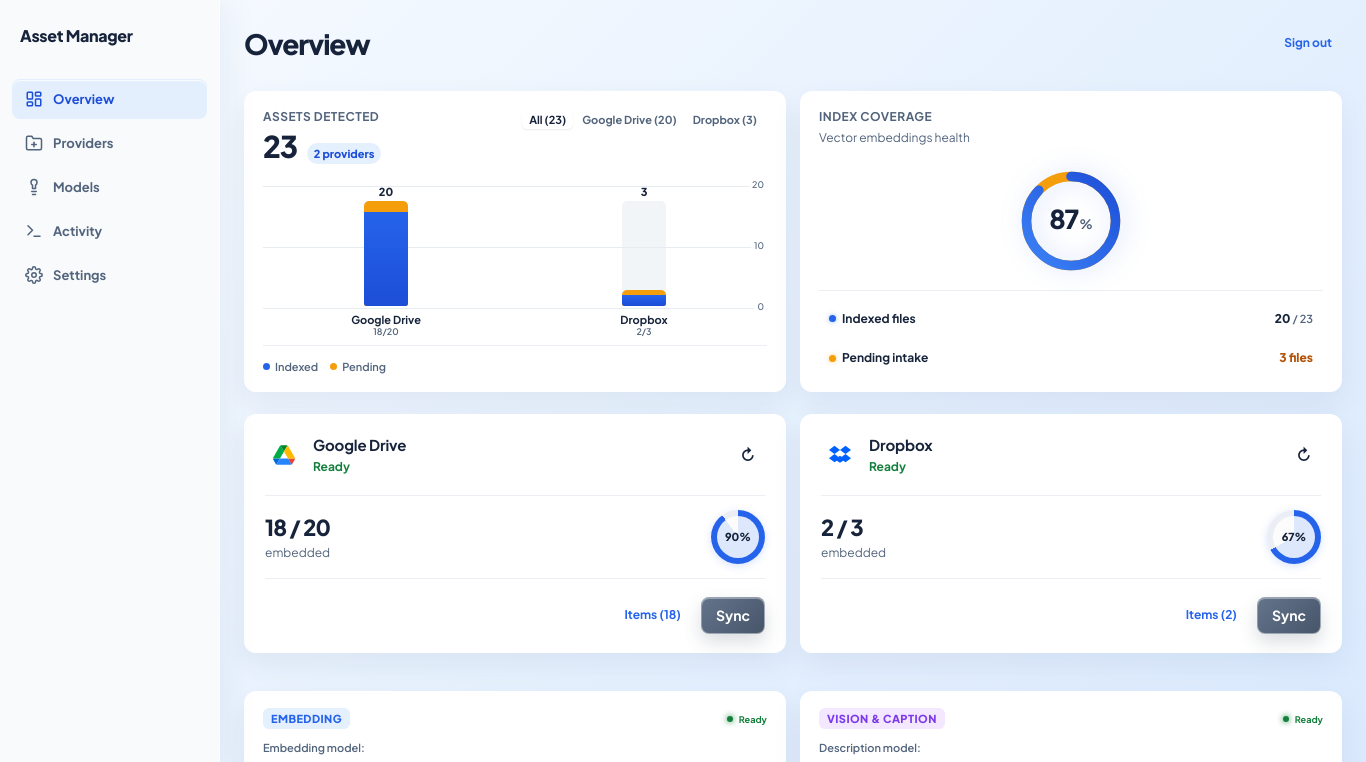
Test: shows session sync activity only on the providers tab
What coordinates should you click on to do the following:
click the button "Providers"
I would click on:
 (110, 143)
Its box is [12,123,207,163].
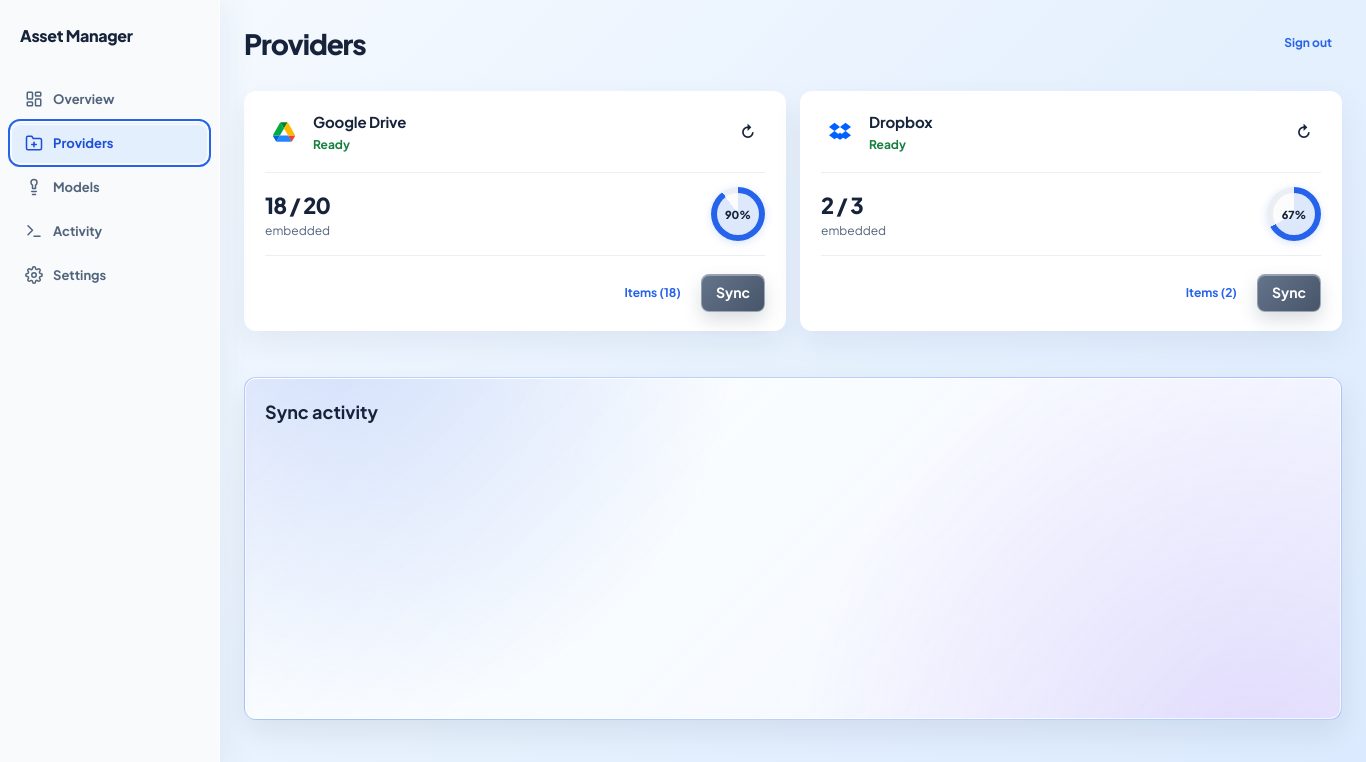
What coordinates should you click on to do the following:
click the button with aria-label "Sync Google Drive"
I would click on:
 (733, 293)
Its box is [701,274,765,312].
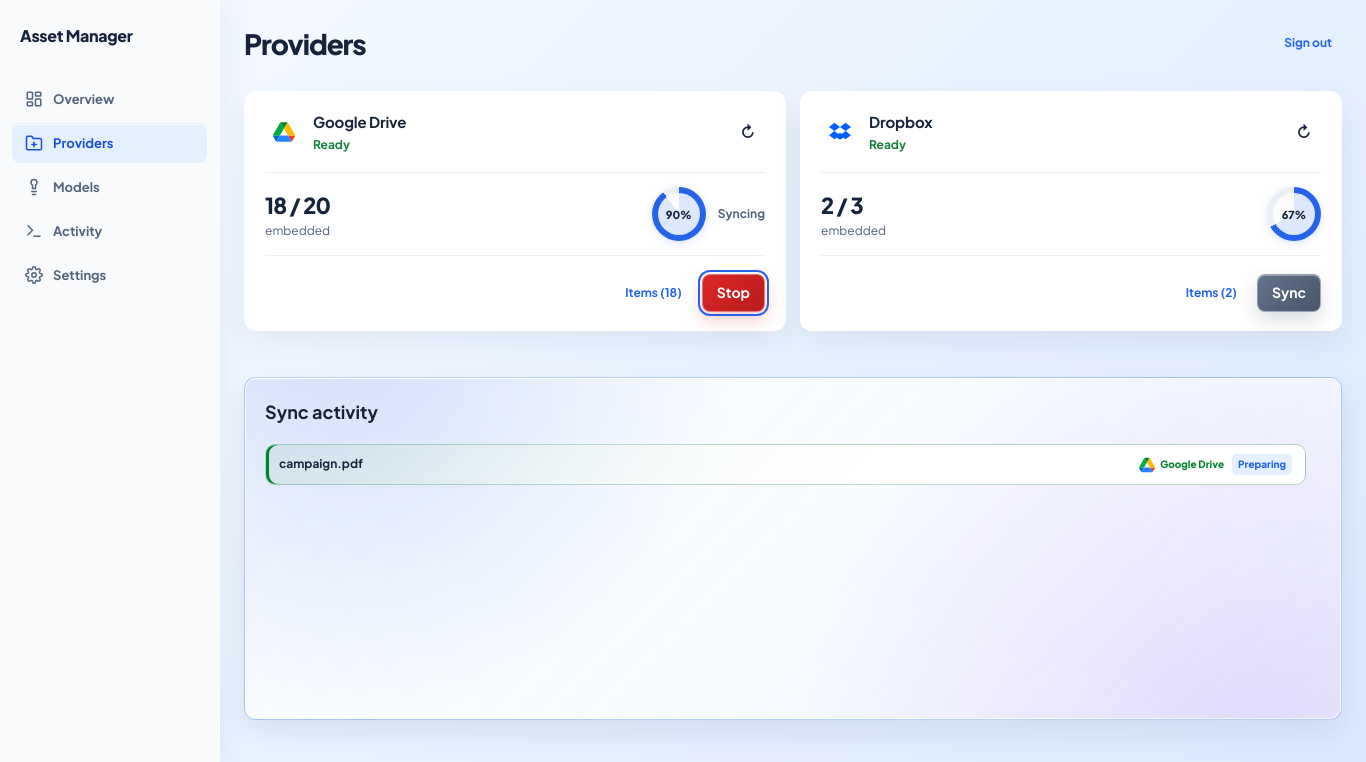
expect the element "Sync activity" shows "campaign.pdf": met, box [279,456,363,471]
expect the element named "Google Drive campaign.pdf" shows "Google Drive": met, box [1160,458,1224,470]
What coordinates should you click on to do the following:
click the button with aria-label "Stop syncing Google Drive"
I would click on:
 (733, 293)
Its box is [702,274,765,312].
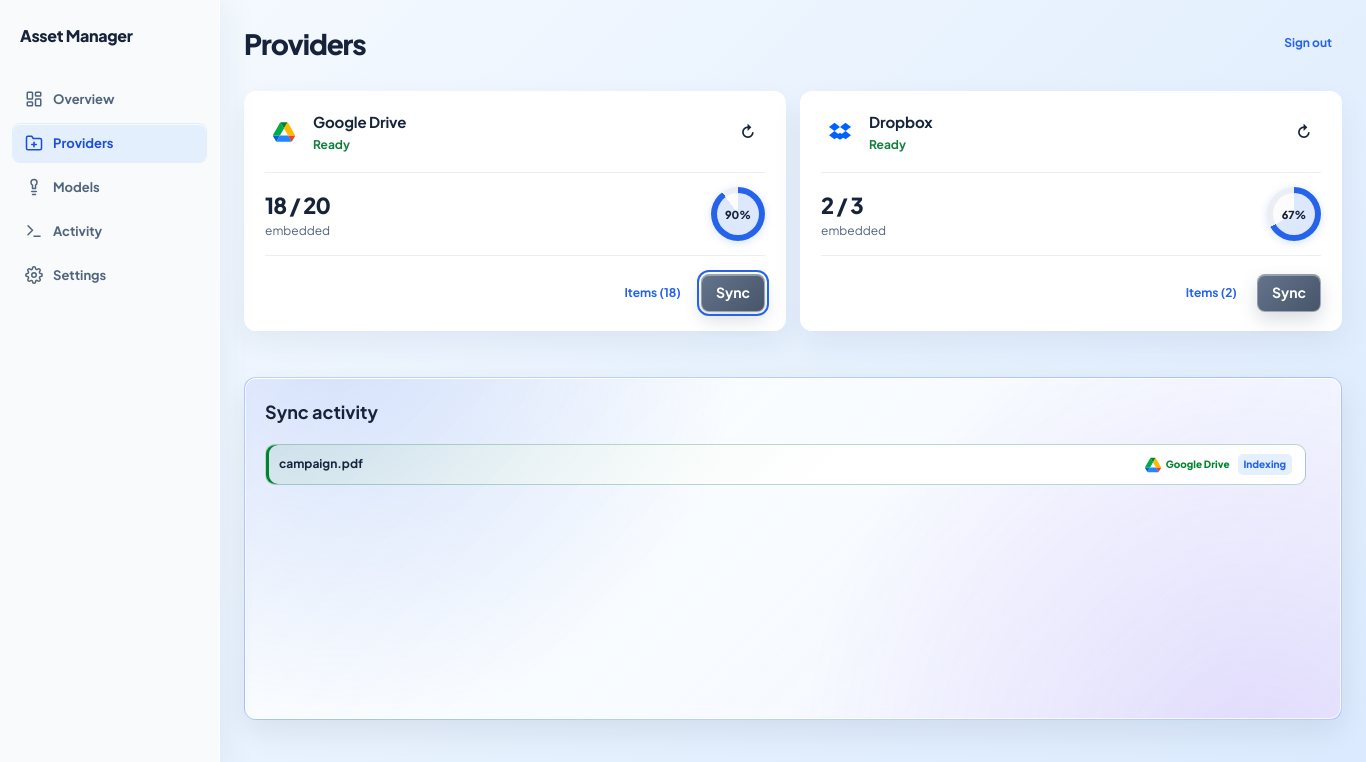
expect the element "Sync activity" shows "campaign.pdf": met, box [279,456,363,471]
What coordinates should you click on to do the following:
click the button "Overview"
I would click on:
 (110, 99)
Its box is [12,79,207,119].
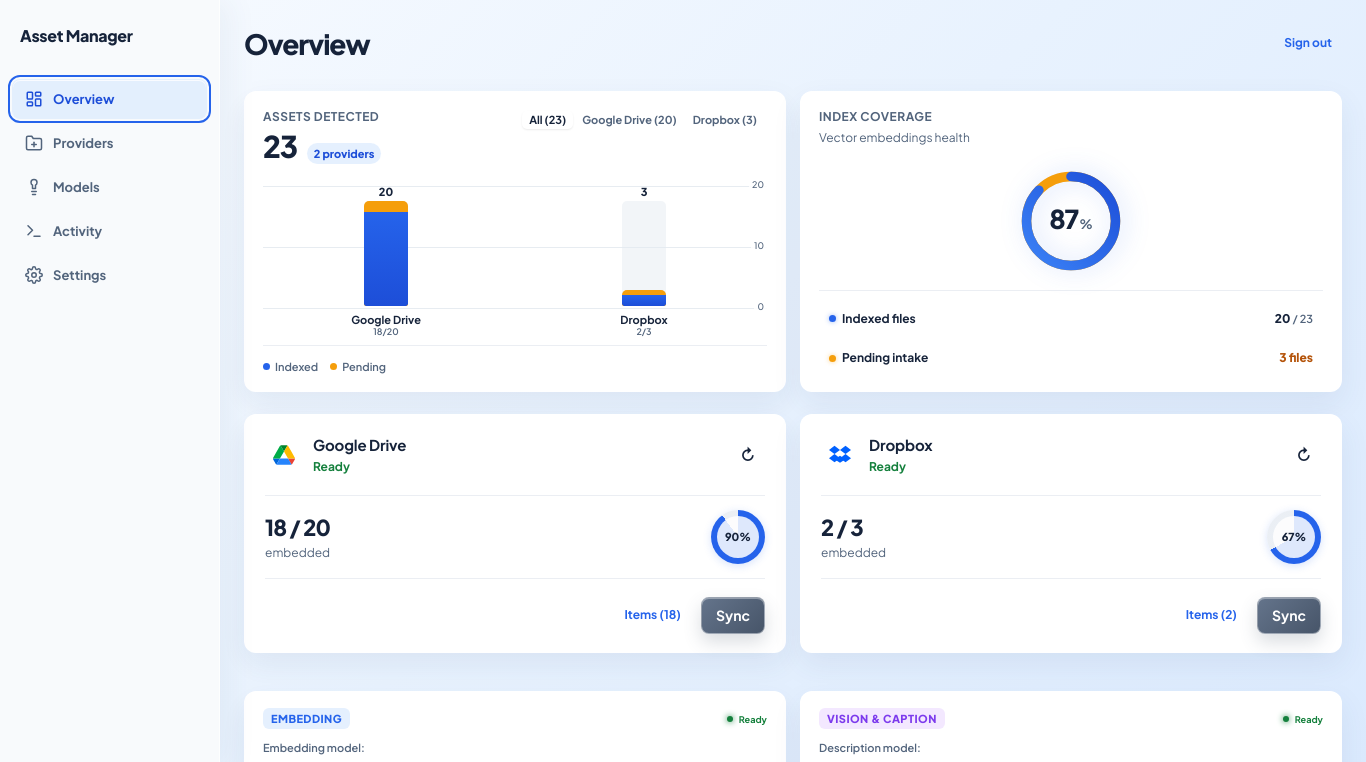
expect the heading "Sync activity" is gone: met
